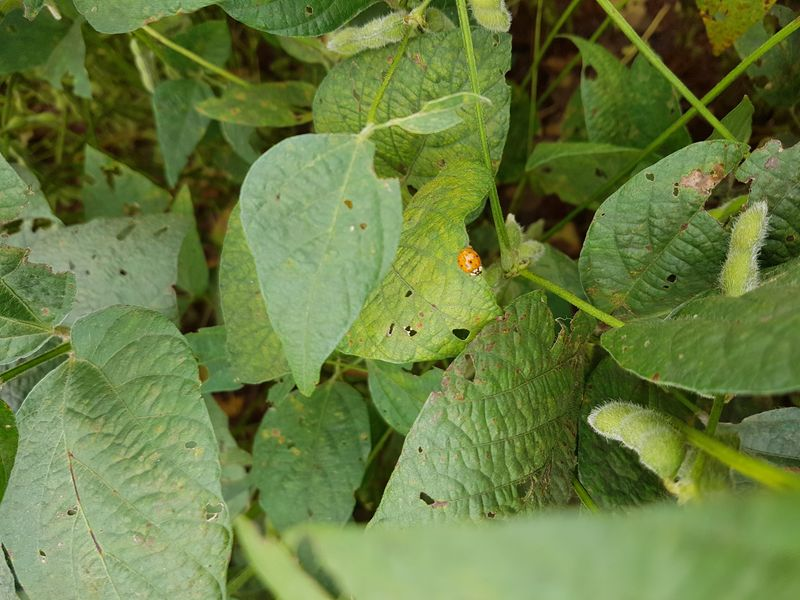Coccinellidae: (448, 238, 494, 284)
